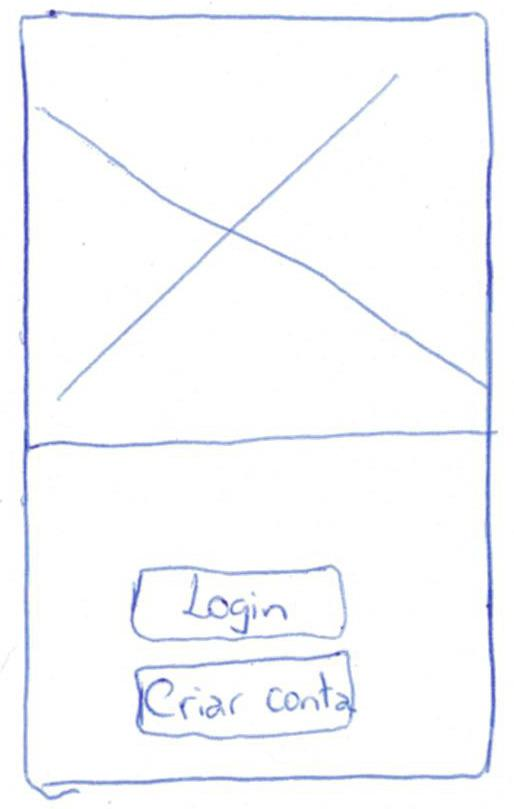Button: (135, 650, 354, 739), (131, 564, 347, 640)
Image: (20, 11, 492, 452)
Screen: (15, 8, 497, 787)
